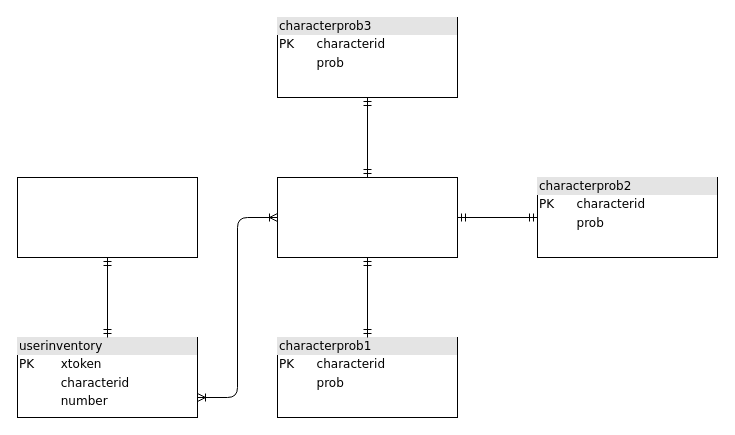
Some shapes in this 735 by 435 pixel diagram are drawn without their labels. The centre of each missing label's shape, as x and y in pixels:
"characterinfo PK characterid name" goes at pixel 367 217.
"user PK xtoken name" goes at pixel 107 217.
